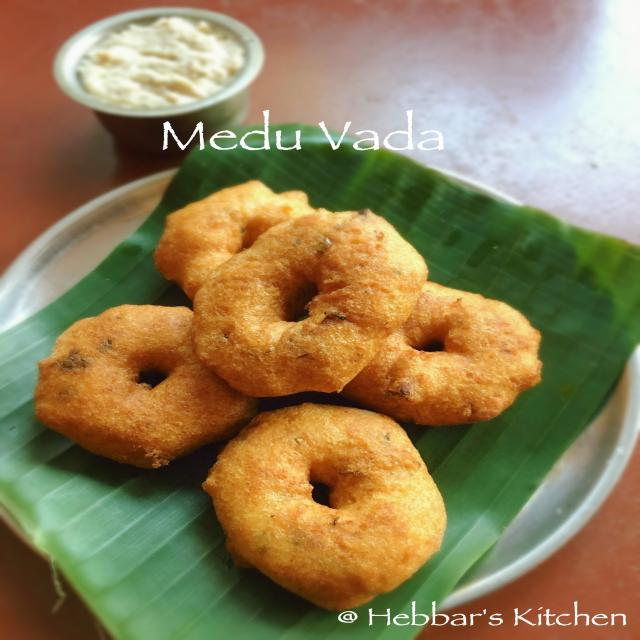VADA: (31, 175, 544, 620)
WHITE CHUTNEY: (76, 12, 239, 108)
